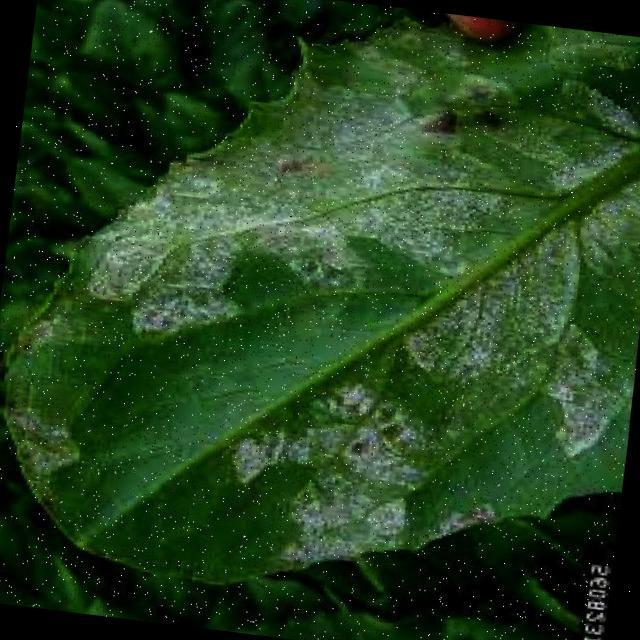Downy_Mildew: (230, 122, 640, 483)
